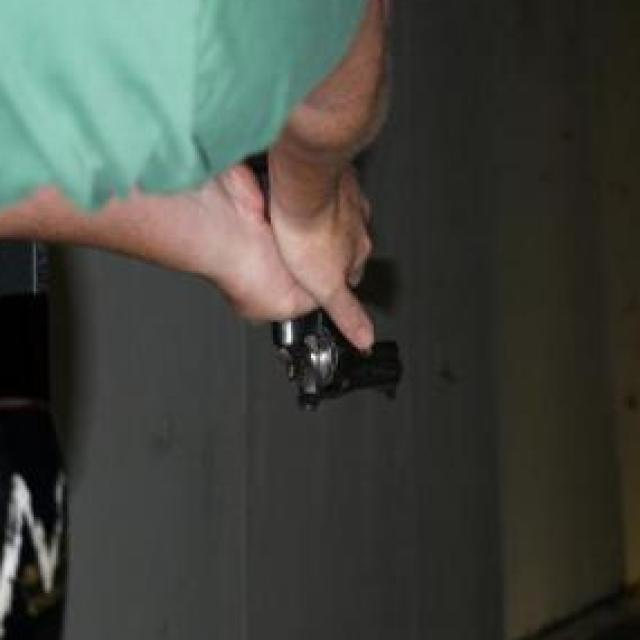pistol: (257, 164, 403, 420)
